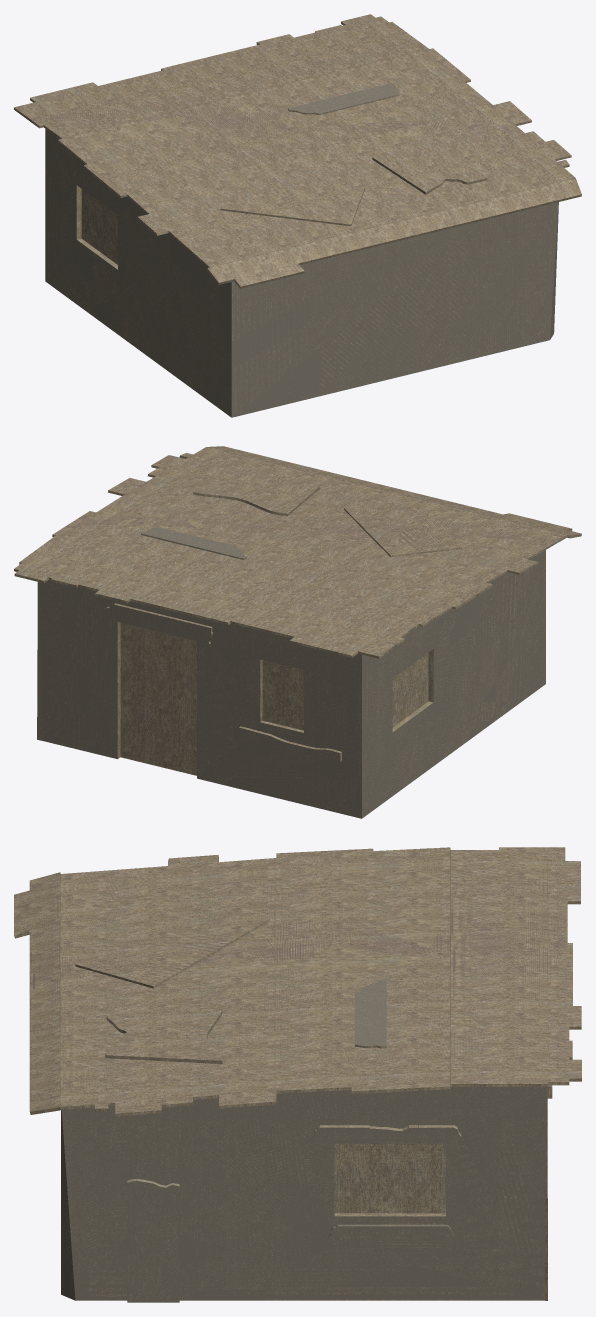
The model's file is House 2.fbx.
3 views of the same model, one above another, from view 1: azimuth 30°, elevation 25°; view 2: azimuth 150°, elevation 25°; view 3: azimuth 270°, elevation 25° (orthographic). The views are drawn at different scales.
Visible parts, largest first — view 1: Model; view 2: Model; view 3: Model.
Boxes of the visible parts, x1=… form: Model: x1=14, y1=14, x2=581, y2=417; Model: x1=14, y1=446, x2=581, y2=818; Model: x1=14, y1=847, x2=581, y2=1302.
Size of the model in its own units: 421 by 178 by 402.
